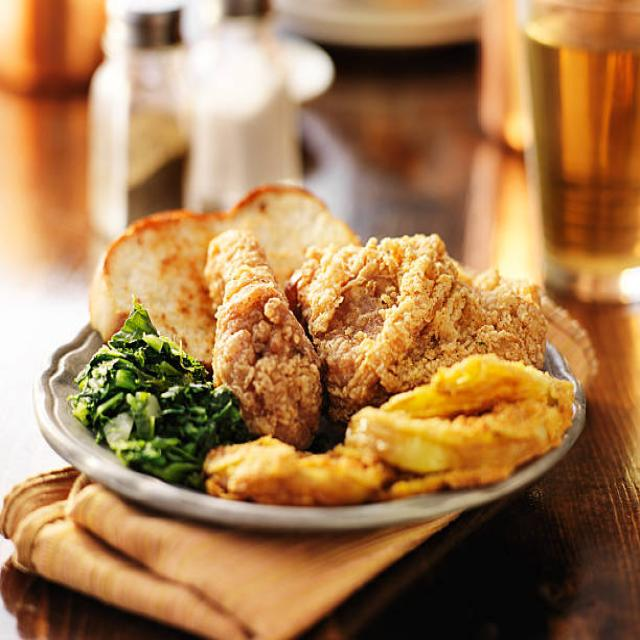Frango: (204, 224, 549, 443)
